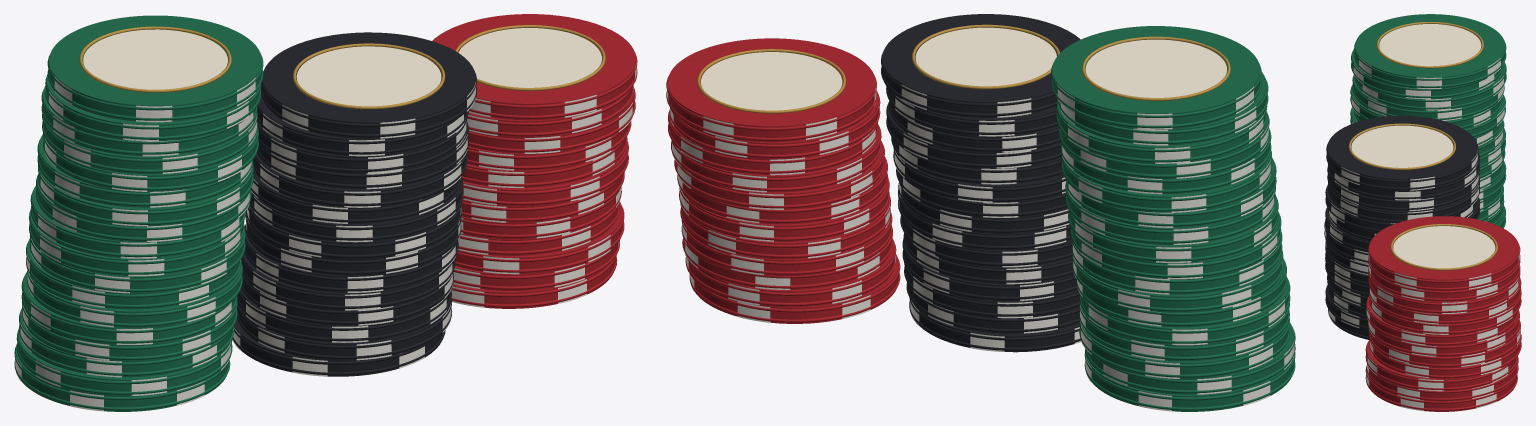
File: poker-chips-mid.glb
3 views of the same model, side by side, from view 1: azimuth 30°, elevation 25°; view 2: azimuth 150°, elevation 25°; view 3: azimuth 270°, elevation 25° (orthographic). The views are drawn at different scales.
Parts seen in each view (by area): view 1: chip_body (×45), rim_groove (×88), face_inlay (×3), inlay_ring (×3); view 2: chip_body (×45), rim_groove (×89), face_inlay (×3), inlay_ring (×3); view 3: chip_body (×33), rim_groove (×44), face_inlay (×3), inlay_ring (×3), edge_spot_1 (×6), edge_spot_3 (×5), edge_spot_2 (×4), edge_spot_4 (×3), edge_spot_5 (×3), edge_spot_0.
Boxes of the visible parts, x1=… form: chip_body (×45): x1=16, y1=14, x2=635, y2=411; rim_groove (×88): x1=14, y1=52, x2=637, y2=410; face_inlay (×3): x1=83, y1=28, x2=601, y2=106; inlay_ring (×3): x1=79, y1=25, x2=605, y2=109; chip_body (×45): x1=667, y1=14, x2=1294, y2=411; rim_groove (×89): x1=666, y1=51, x2=1295, y2=410; face_inlay (×3): x1=701, y1=27, x2=1226, y2=110; inlay_ring (×3): x1=697, y1=24, x2=1230, y2=113; chip_body (×33): x1=1325, y1=14, x2=1520, y2=411; rim_groove (×44): x1=1325, y1=41, x2=1521, y2=410; face_inlay (×3): x1=1351, y1=24, x2=1495, y2=268; inlay_ring (×3): x1=1348, y1=22, x2=1497, y2=270; edge_spot_1 (×6): x1=1395, y1=191, x2=1491, y2=377; edge_spot_3 (×5): x1=1409, y1=77, x2=1450, y2=334; edge_spot_2 (×4): x1=1400, y1=87, x2=1501, y2=410; edge_spot_4 (×3): x1=1401, y1=285, x2=1493, y2=398; edge_spot_5 (×3): x1=1401, y1=282, x2=1497, y2=356; edge_spot_0: x1=1394, y1=272, x2=1416, y2=288.
Bounding box in the file's own units: 0.1278 × 0.0611 × 0.0512.
